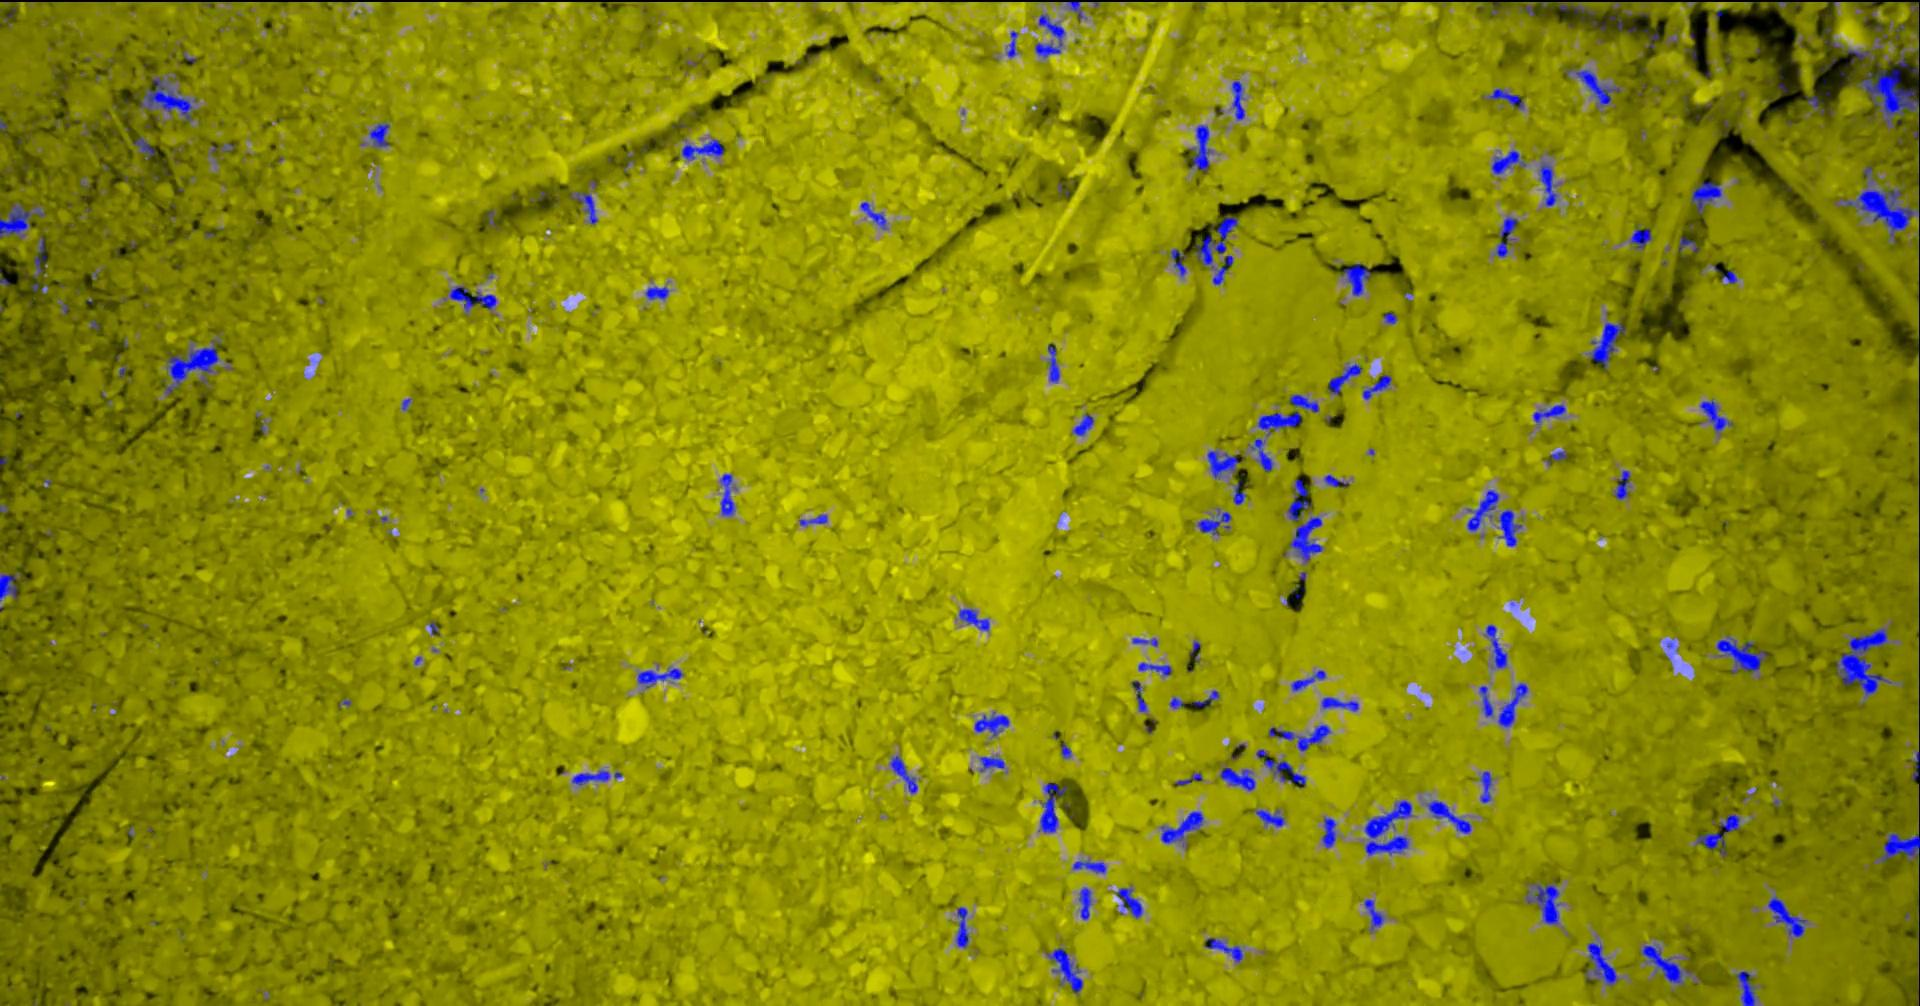ant: (141, 77, 198, 121), (1196, 216, 1239, 267), (1641, 945, 1694, 983), (1718, 636, 1773, 673), (1697, 814, 1741, 857), (1590, 321, 1627, 370), (1257, 749, 1307, 785), (1048, 948, 1084, 993), (1270, 724, 1332, 751), (1769, 895, 1810, 936), (1577, 69, 1622, 105), (1, 205, 47, 238), (1291, 516, 1324, 561), (1427, 800, 1472, 833), (1040, 782, 1069, 832), (1162, 810, 1205, 843), (1468, 489, 1501, 531), (1561, 0, 1608, 29), (1587, 941, 1619, 984), (1498, 682, 1529, 727), (1528, 883, 1561, 923), (1036, 14, 1067, 57), (1881, 832, 1920, 862), (451, 286, 497, 311), (1702, 399, 1735, 432), (891, 754, 919, 793), (1691, 180, 1723, 213), (1486, 624, 1509, 668), (1191, 124, 1213, 171), (1289, 478, 1313, 520), (1330, 363, 1363, 394), (1209, 450, 1244, 478), (1258, 412, 1302, 434), (1496, 216, 1520, 257), (1206, 937, 1244, 962), (683, 138, 725, 160), (1498, 509, 1523, 546), (571, 192, 599, 224), (1343, 263, 1371, 295), (1199, 508, 1233, 533), (639, 668, 684, 687), (573, 768, 623, 785), (1493, 150, 1528, 174), (977, 711, 1011, 735), (1222, 767, 1257, 790), (1117, 887, 1144, 917), (1364, 373, 1393, 399), (1293, 669, 1327, 691), (1490, 88, 1525, 108), (1542, 163, 1558, 206), (1252, 438, 1274, 471), (862, 201, 888, 229), (1737, 970, 1757, 1005), (1534, 404, 1567, 424), (960, 608, 990, 630), (721, 473, 737, 514), (1214, 255, 1234, 285), (1365, 899, 1385, 929), (1322, 696, 1360, 711), (957, 906, 970, 948), (135, 136, 157, 159), (1291, 394, 1321, 412), (371, 122, 391, 147), (1233, 80, 1246, 119), (1133, 680, 1148, 711), (1257, 809, 1286, 826), (1, 573, 19, 600), (1049, 345, 1062, 382), (36, 236, 47, 277), (1172, 248, 1189, 276), (1079, 887, 1093, 920), (1808, 89, 1826, 114), (1195, 690, 1220, 708), (1845, 50, 1877, 64), (1481, 685, 1495, 716), (1481, 771, 1495, 803), (1632, 227, 1653, 248), (1074, 413, 1095, 434), (1074, 860, 1109, 873), (1323, 817, 1337, 847), (1140, 662, 1173, 674), (1617, 470, 1630, 499), (982, 756, 1006, 771), (1176, 772, 1203, 785), (1234, 480, 1248, 504), (1326, 474, 1351, 486), (1068, 0, 1084, 19), (1679, 238, 1700, 251), (648, 286, 670, 298), (801, 514, 829, 525), (1912, 0, 1920, 37), (1548, 451, 1570, 464), (1008, 30, 1018, 57), (1134, 636, 1159, 647), (1191, 640, 1203, 662), (1646, 33, 1661, 47), (1912, 751, 1920, 779), (213, 144, 236, 152), (1723, 271, 1738, 283), (1171, 696, 1187, 708), (1062, 742, 1073, 758), (1912, 48, 1920, 72), (1385, 312, 1398, 323)
